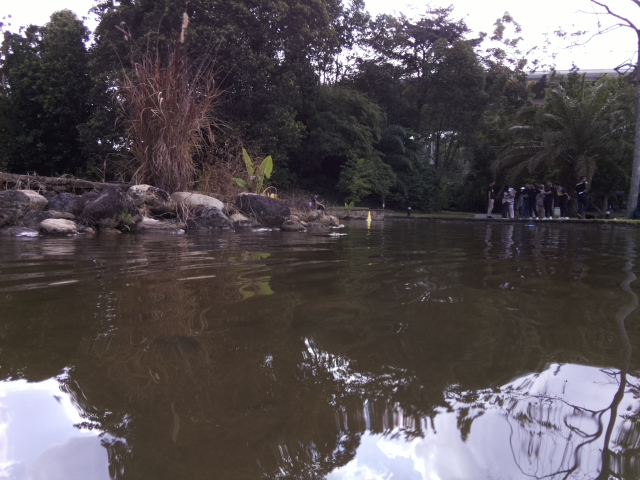checkpoint: (366, 210, 373, 222)
